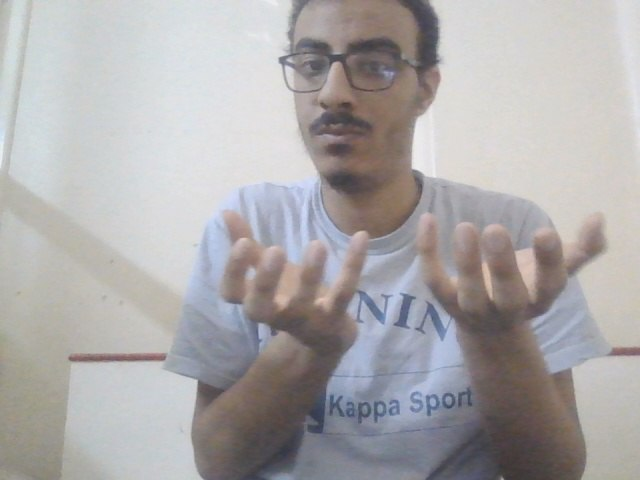What: (203, 203, 615, 349)
